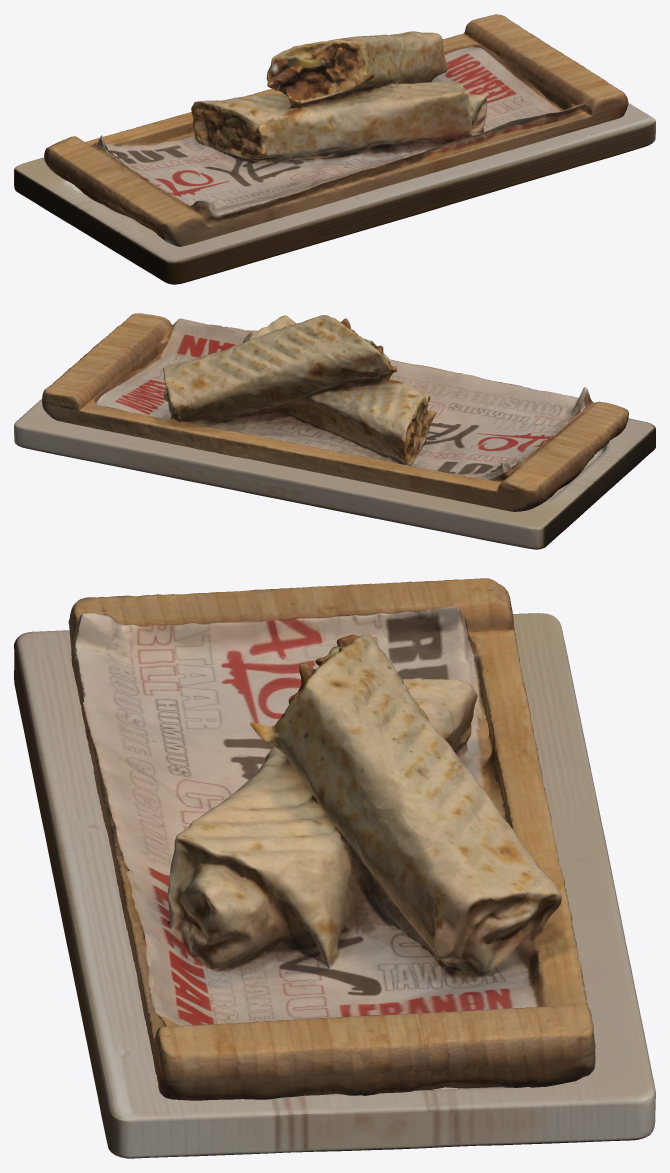
Rendered from chicken.shawerma.glb.
3 views of the same model, one above another, from view 1: azimuth 30°, elevation 25°; view 2: azimuth 150°, elevation 25°; view 3: azimuth 270°, elevation 25° (orthographic). The views are drawn at different scales.
Visible parts, largest first — view 1: /Root/Scenes/Scene/Object_37/Object_38/Submesh_0, /Root/Scenes/Scene/Object_37/Object_41/Object_42/Submesh_0; view 2: /Root/Scenes/Scene/Object_37/Object_38/Submesh_0, /Root/Scenes/Scene/Object_37/Object_41/Object_42/Submesh_0; view 3: /Root/Scenes/Scene/Object_37/Object_38/Submesh_0, /Root/Scenes/Scene/Object_37/Object_41/Object_42/Submesh_0.
Boxes of the visible parts, left/top/right/bottom form: /Root/Scenes/Scene/Object_37/Object_38/Submesh_0: left=44, top=14, right=628, bottom=246; /Root/Scenes/Scene/Object_37/Object_41/Object_42/Submesh_0: left=14, top=103, right=655, bottom=284; /Root/Scenes/Scene/Object_37/Object_38/Submesh_0: left=42, top=313, right=628, bottom=511; /Root/Scenes/Scene/Object_37/Object_41/Object_42/Submesh_0: left=14, top=399, right=655, bottom=549; /Root/Scenes/Scene/Object_37/Object_38/Submesh_0: left=68, top=578, right=595, bottom=1100; /Root/Scenes/Scene/Object_37/Object_41/Object_42/Submesh_0: left=14, top=613, right=655, bottom=1158.
Size of the model in its own units: 0.4219 by 0.0967 by 0.226.
2 materials, 2 textured.
